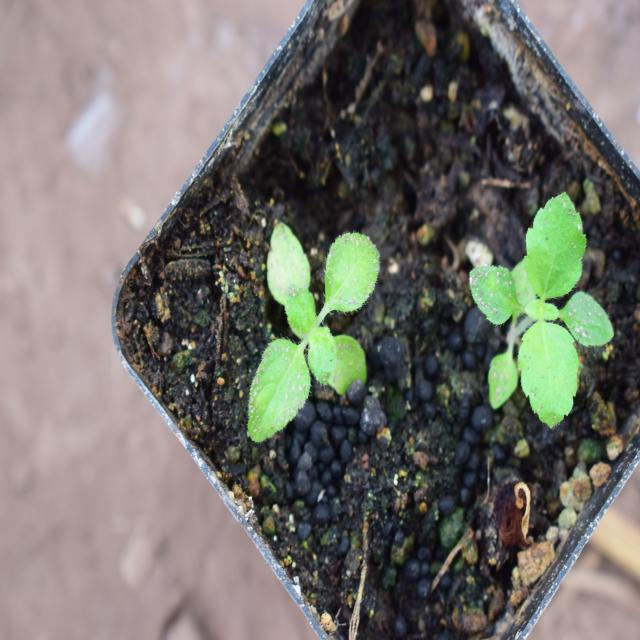billygoat_weed: (459, 196, 604, 453), (236, 195, 388, 436)
